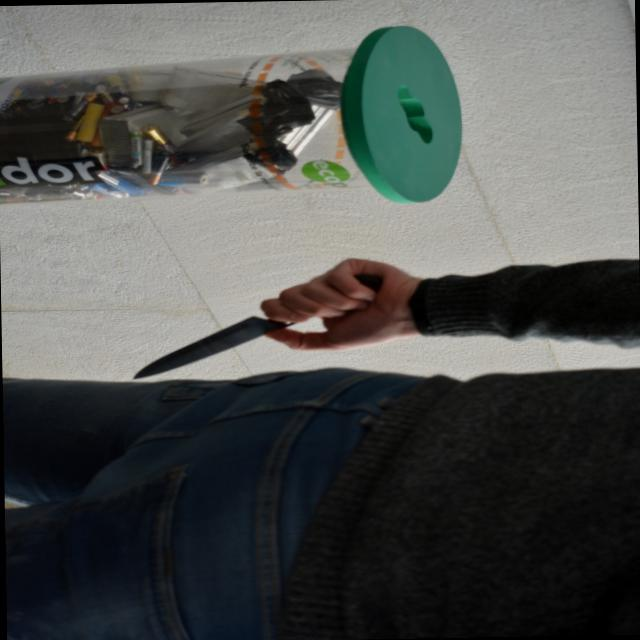knife: (127, 269, 390, 380)
